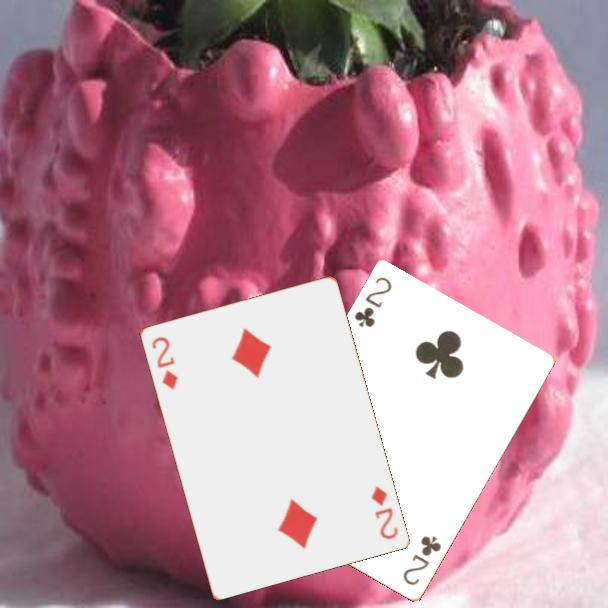c02: (399, 532, 444, 589), (351, 274, 395, 331)
d02: (367, 483, 401, 542), (148, 333, 180, 392)
